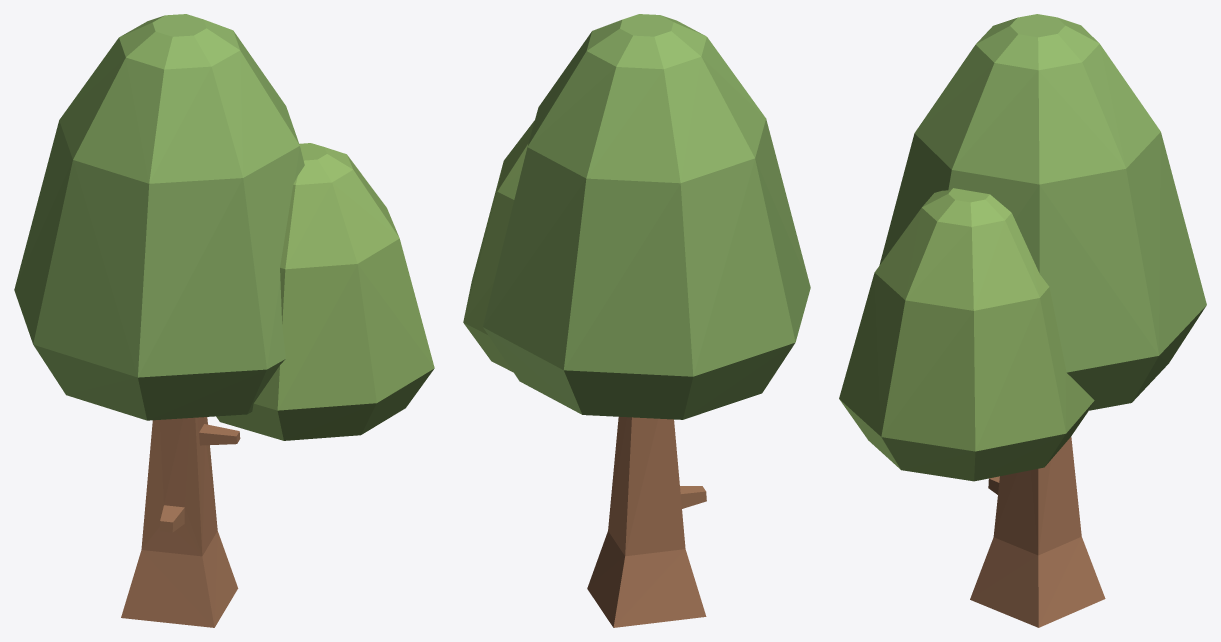
File: forest-deciduous-1.glb
3 renders of one model, left to right at view 1: azimuth 30°, elevation 25°; view 2: azimuth 150°, elevation 25°; view 3: azimuth 270°, elevation 25°, orthographic.
Parts seen in each view (by area): view 1: forest-deciduous-1; view 2: forest-deciduous-1; view 3: forest-deciduous-1.
Boxes of the visible parts, x1,y1,x2,y2 form: forest-deciduous-1: [14, 14, 434, 627]; forest-deciduous-1: [463, 14, 810, 627]; forest-deciduous-1: [839, 14, 1206, 627].
Size of the model in its own units: 1.07 by 1.68 by 0.9741.
